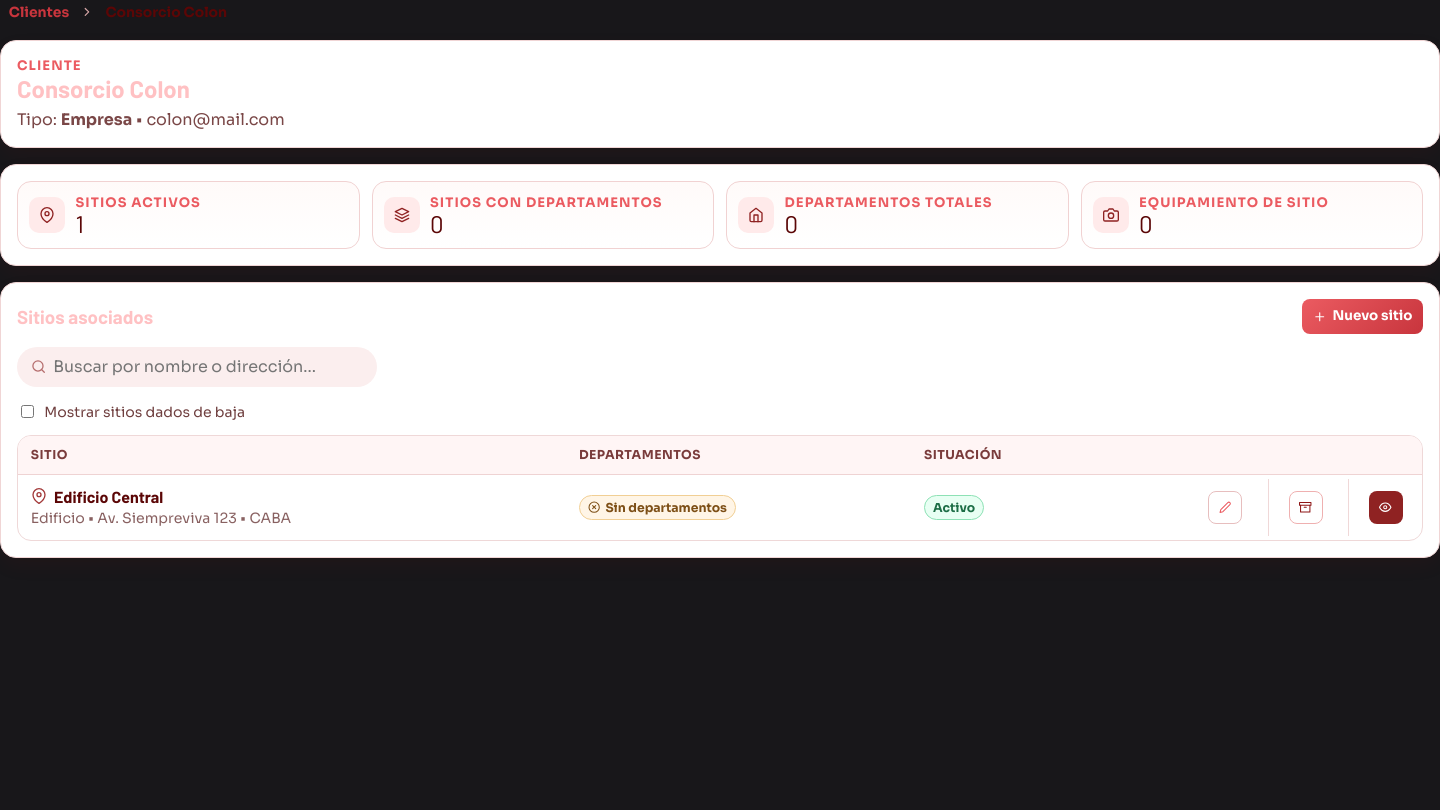
Test case: ClienteDetailPage › muestra el error de guardado sin cerrar el modal si falla el PUT
The width and height of the screenshot is (1440, 810).
Expected: the text "Edificio Central" is shown, [31,487,163,506]
Click the button named "Editar": (1225,508) [1208,491,1242,524]
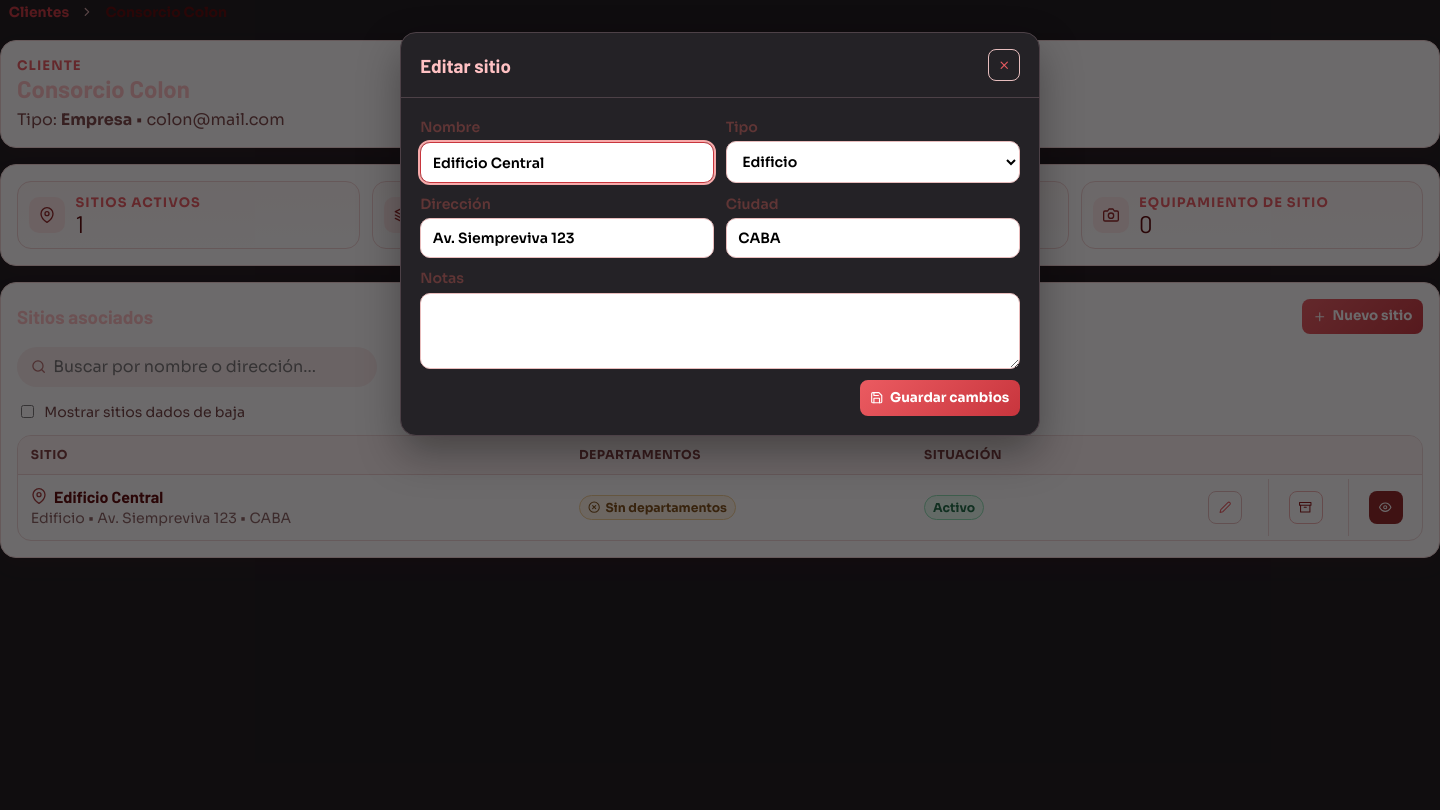
Click the button "Guardar cambios": (940,398) [860,380,1020,416]
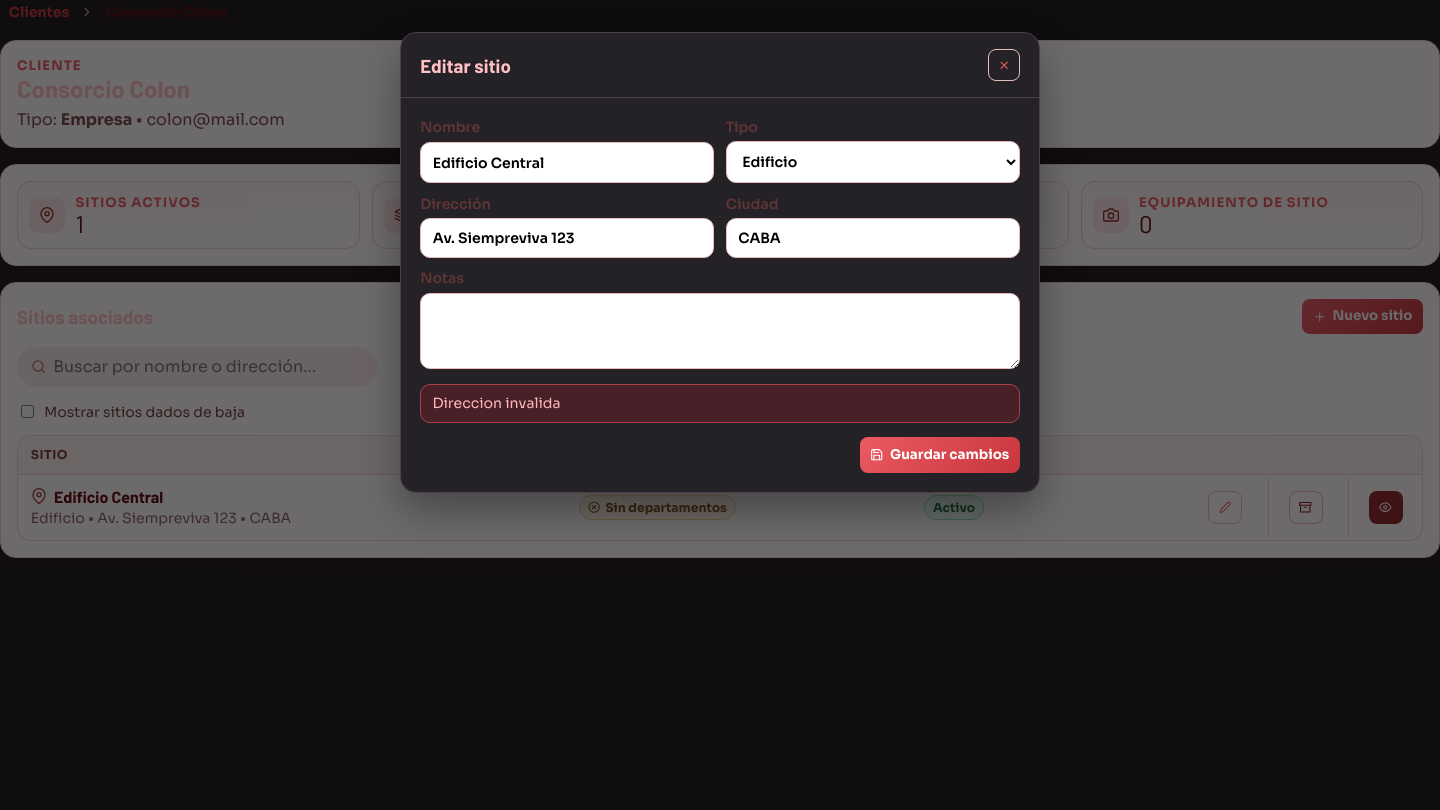
Expected: the field labelled "Nombre" is shown, [420,142,714,183]
Expected: the text "Direccion invalida" is shown, [420,384,1020,423]
